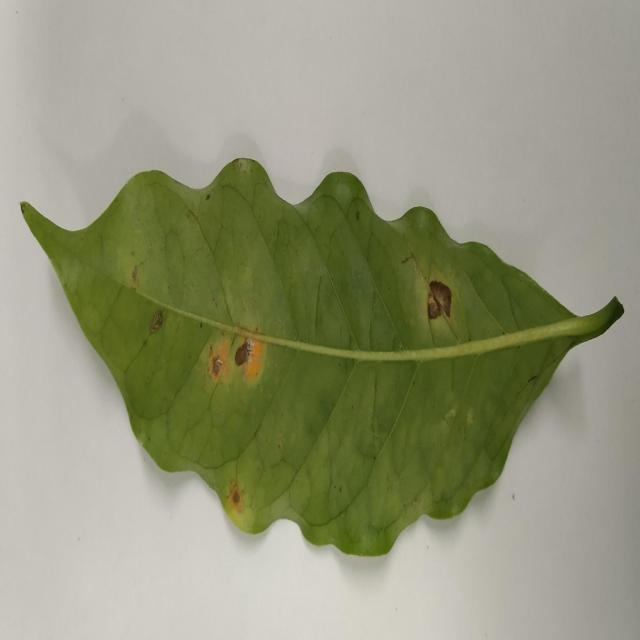Enfermedad-Mancha-de-hierro: (20, 159, 625, 561)
